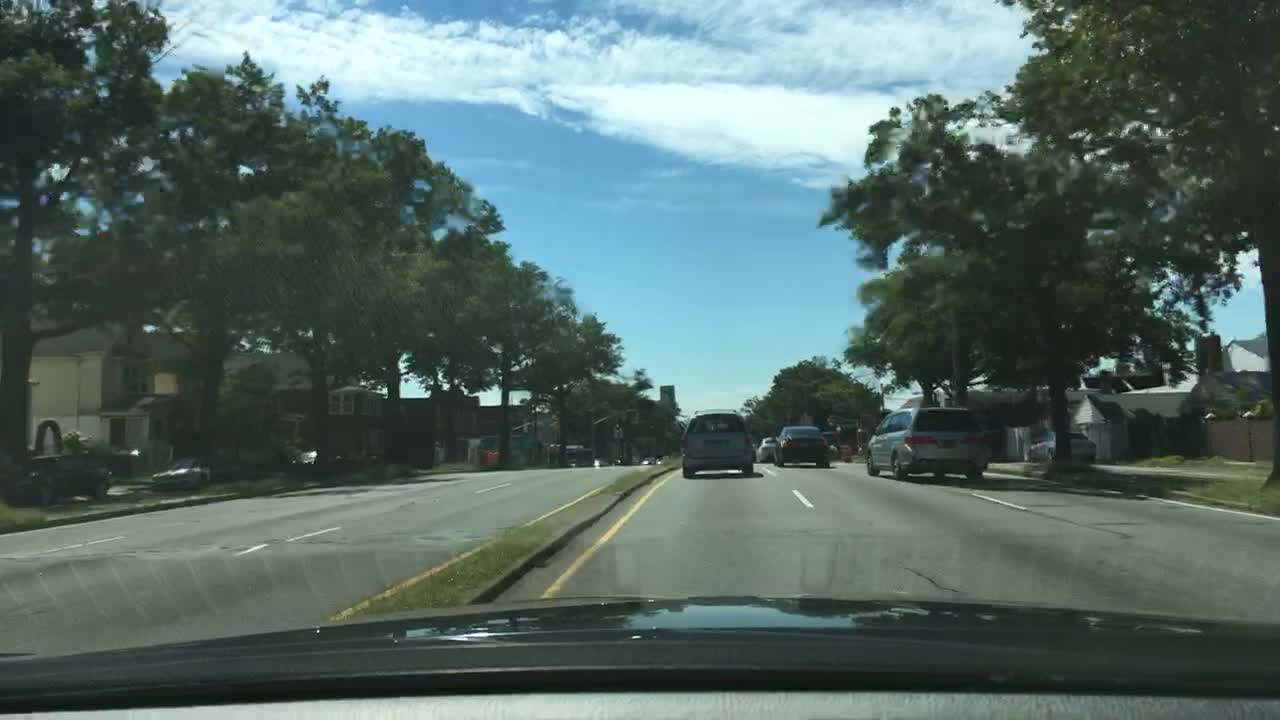car: (861, 404, 996, 483), (0, 449, 114, 510), (676, 407, 756, 479), (1023, 426, 1099, 468), (146, 456, 218, 493), (773, 424, 834, 464), (285, 444, 319, 473), (751, 434, 778, 464), (818, 429, 842, 461), (839, 441, 854, 463), (639, 454, 659, 466), (593, 456, 613, 466)
